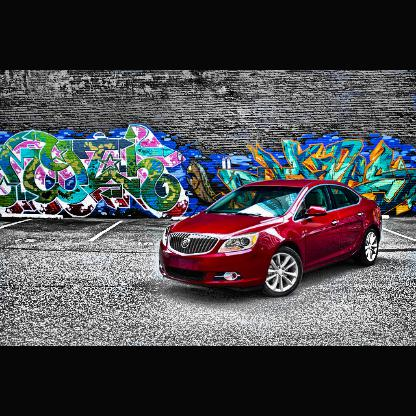Buick Verano Sedan 2012: (161, 180, 383, 299)
